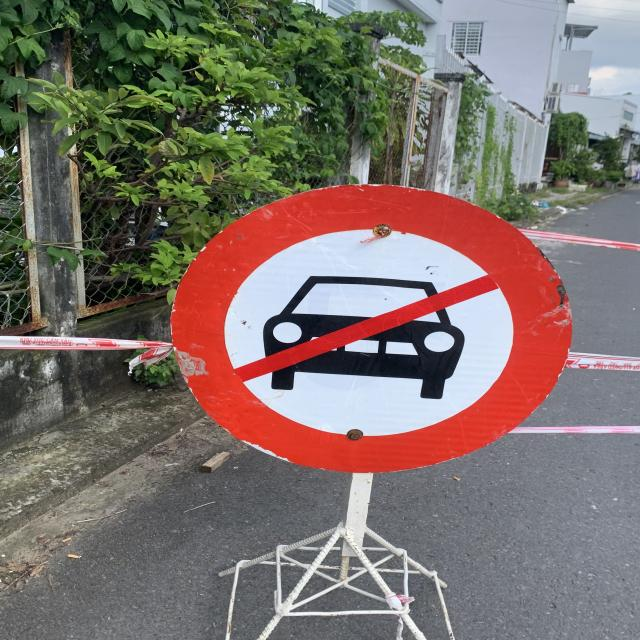Cam_O_To: (172, 181, 578, 472)
